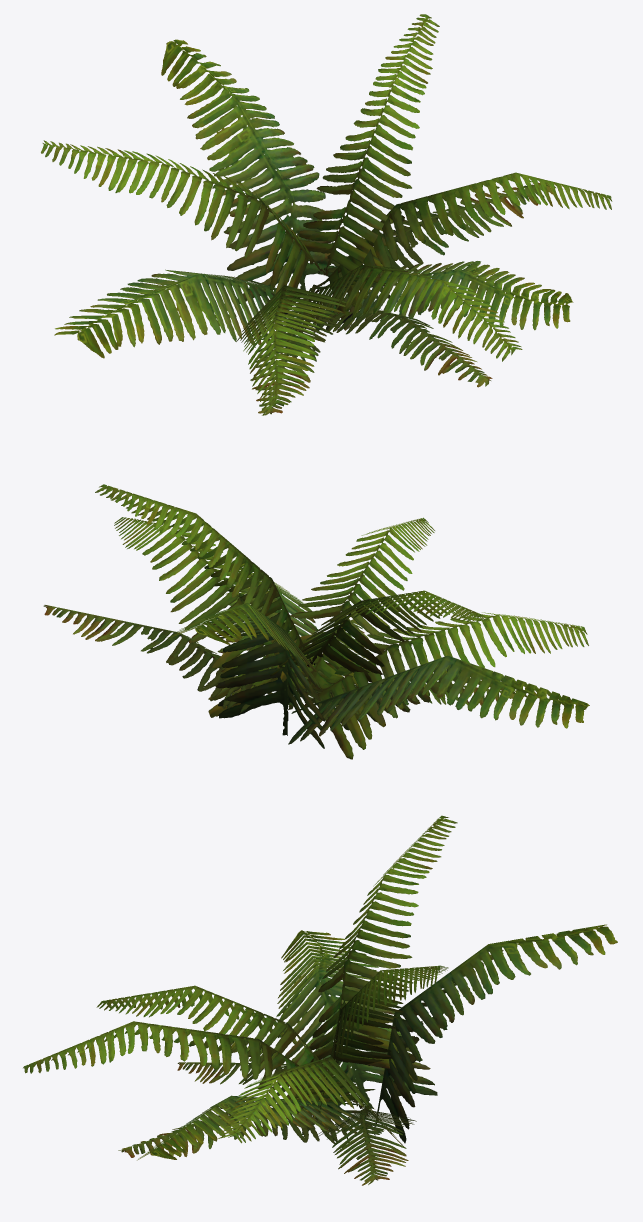
File: TY_tieshu_01.FBX
3 renders of one model, top to bottom at view 1: azimuth 30°, elevation 25°; view 2: azimuth 150°, elevation 25°; view 3: azimuth 270°, elevation 25°, orthographic.
Visible parts, largest first — view 1: TY_tieshu_01; view 2: TY_tieshu_01; view 3: TY_tieshu_01.
Boxes of the visible parts, x1,y1,x2,y2 form: TY_tieshu_01: [41, 14, 612, 415]; TY_tieshu_01: [43, 484, 589, 759]; TY_tieshu_01: [23, 815, 617, 1185].
Size of the model in its own units: 133 by 62.79 by 125.
